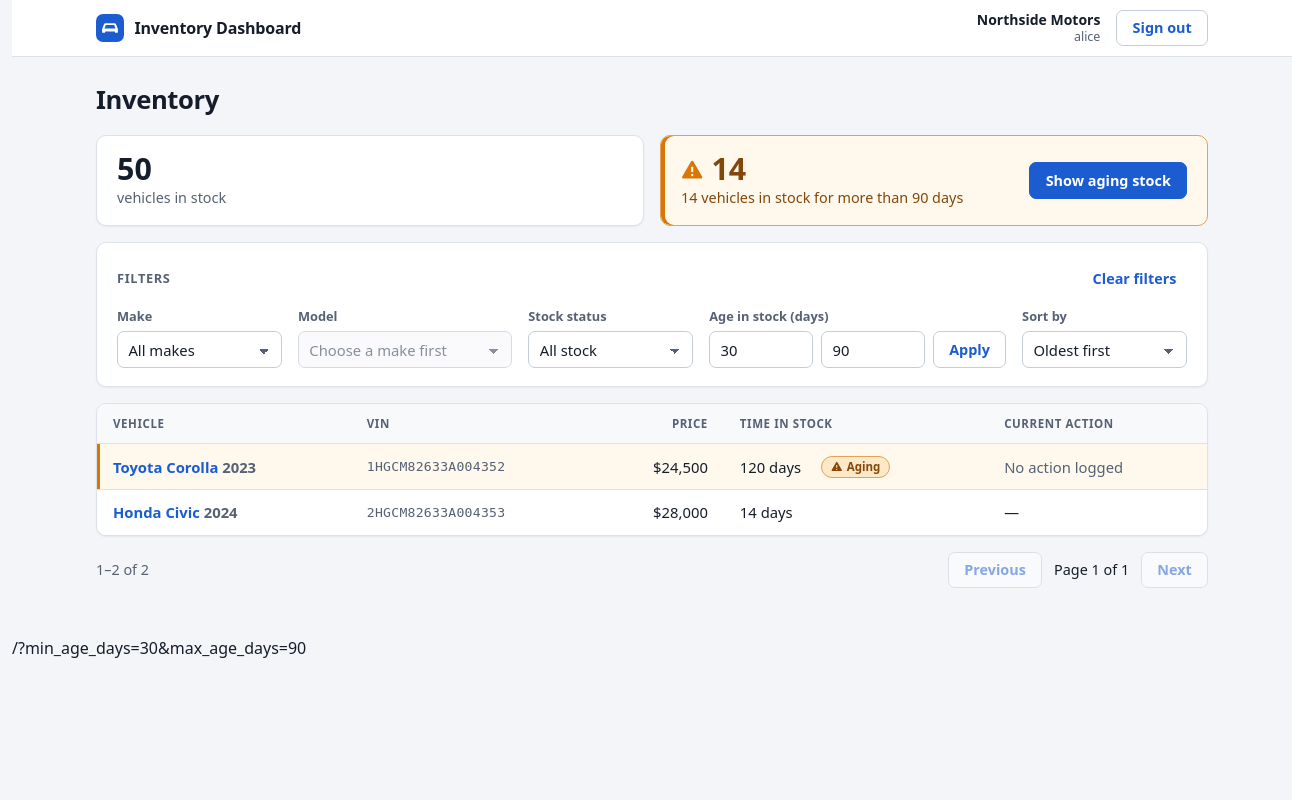
Test: filtering › shows the filters from the URL after navigating back
Expected: the link "Toyota Corolla" is shown, [113,457,218,477]
Click the button "Clear filters": (1134,279) [1082,260,1187,297]
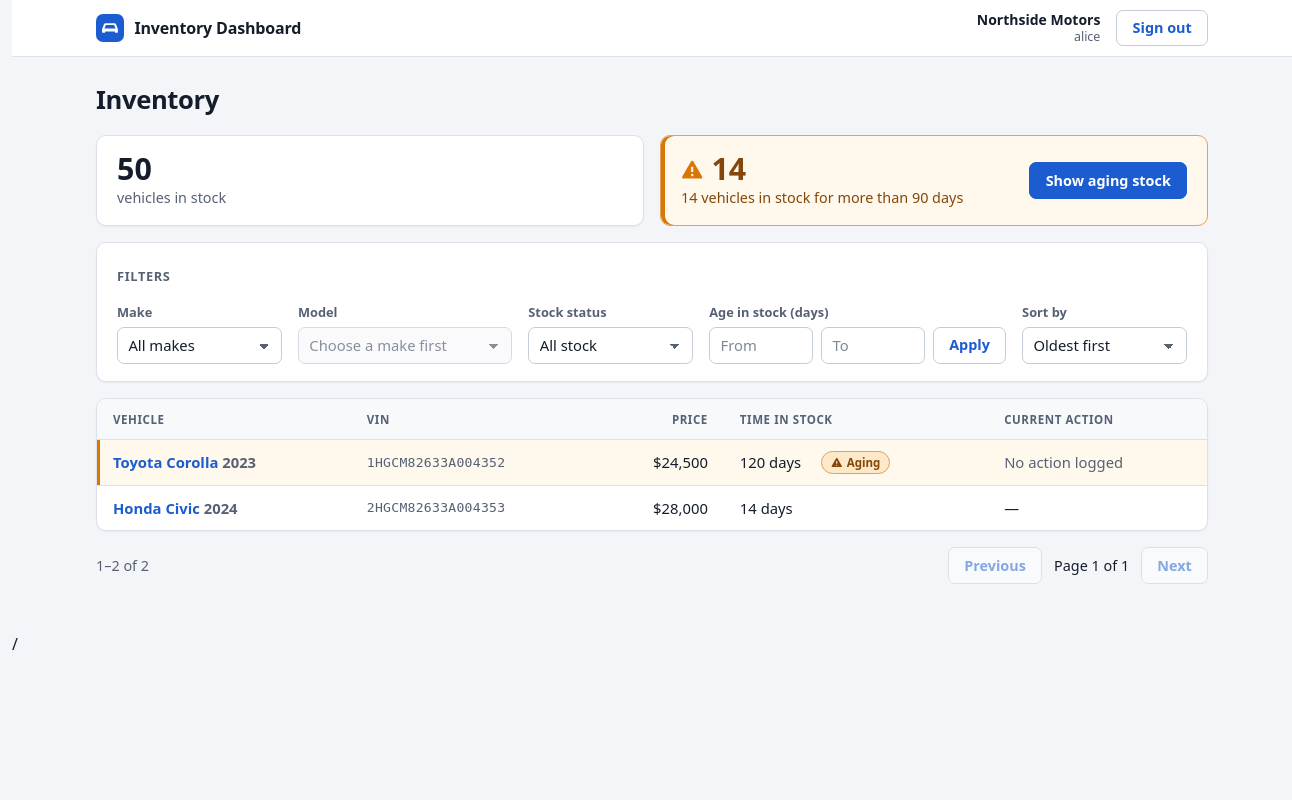
Expected: the field labelled "From" is empty, [709,327,813,364]
Expected: the field labelled "To" is empty, [821,327,925,364]
